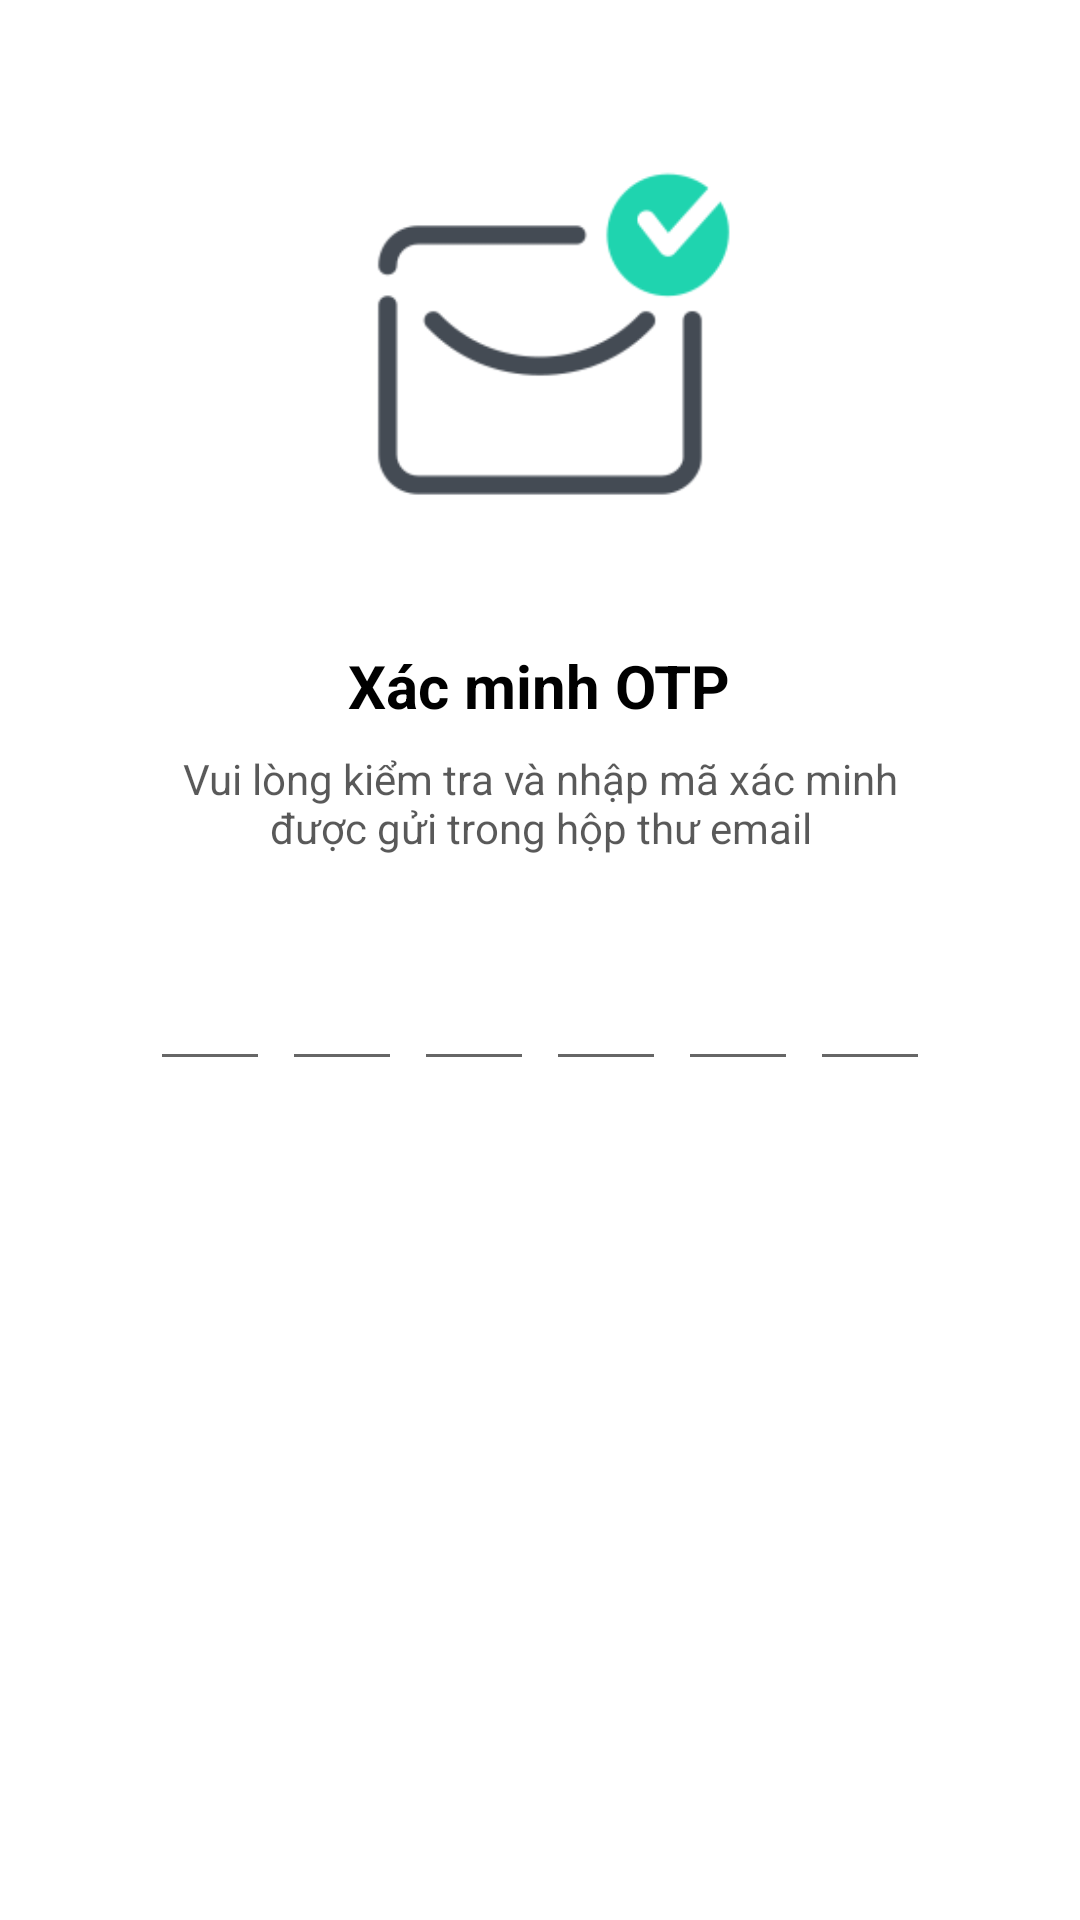

Named icons in this screenshot (1080px x 1920px) and their bounding boxes, detection(x1, y1, x2, y2):
received: detection(377, 173, 730, 495)
